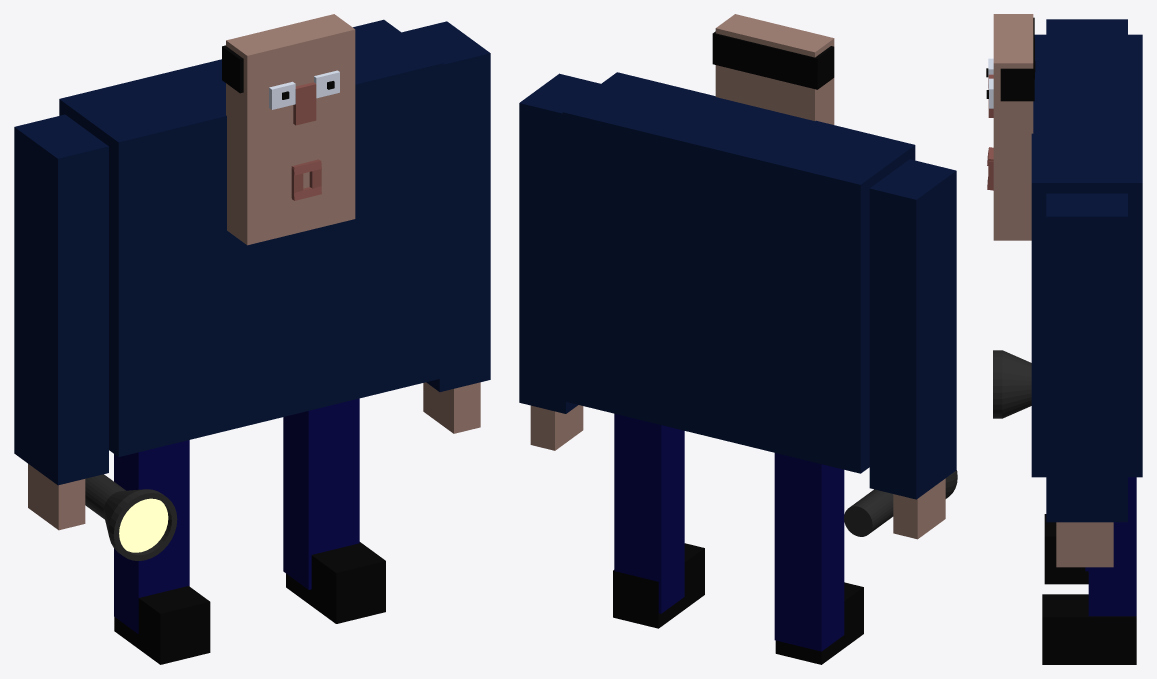
File: Man.glb
The picture shows the model from 3 angles, left to right: view 1: azimuth 30°, elevation 25°; view 2: azimuth 150°, elevation 25°; view 3: azimuth 270°, elevation 25°; orthographic projection. The views are drawn at different scales.
Visible parts, largest first — view 1: Cube, Cube.002, Cube.001, Cube.003, Cube.004, Cube.005, Cube.010, Cylinder, Cube.011, Cube.008, Cube.009, Cube.012 (+1 smaller); view 2: Cube, Cube.002, Cube.003, Cube.005, Cube.004, Cube.001, Cube.020, Cube.010, Cube.008, Cube.011, Cylinder, Cube.009; view 3: Cube.003, Cube, Cube.001, Cube.010, Cube.004, Cube.009, Cylinder, Cube.011, Cube.002, Cube.020.
Part boxes in pixels (x1=…): Cube: x1=59, y1=19, x2=443, y2=456; Cube.002: x1=14, y1=114, x2=108, y2=485; Cube.001: x1=226, y1=14, x2=355, y2=245; Cube.003: x1=402, y1=21, x2=490, y2=391; Cube.004: x1=283, y1=398, x2=359, y2=589; Cube.005: x1=114, y1=440, x2=189, y2=633; Cube.010: x1=286, y1=542, x2=385, y2=623; Cylinder: x1=85, y1=474, x2=177, y2=560; Cube.011: x1=114, y1=586, x2=210, y2=664; Cube.008: x1=28, y1=464, x2=85, y2=530; Cube.009: x1=423, y1=382, x2=480, y2=433; Cube.012: x1=293, y1=82, x2=316, y2=125; Cube: x1=562, y1=72, x2=915, y2=473; Cube.002: x1=869, y1=159, x2=956, y2=499; Cube.003: x1=519, y1=73, x2=600, y2=413; Cube.005: x1=774, y1=453, x2=844, y2=651; Cube.004: x1=614, y1=413, x2=684, y2=613; Cube.001: x1=715, y1=14, x2=834, y2=124; Cube.020: x1=712, y1=31, x2=834, y2=89; Cube.010: x1=613, y1=543, x2=704, y2=628; Cube.008: x1=893, y1=478, x2=945, y2=539; Cube.011: x1=775, y1=582, x2=863, y2=664; Cylinder: x1=844, y1=470, x2=957, y2=536; Cube.009: x1=530, y1=405, x2=583, y2=450; Cube.003: x1=1046, y1=193, x2=1127, y2=522; Cube: x1=1031, y1=34, x2=1142, y2=477; Cube.001: x1=993, y1=14, x2=1033, y2=240; Cube.010: x1=1042, y1=594, x2=1136, y2=664; Cube.004: x1=1088, y1=477, x2=1136, y2=616; Cube.009: x1=1056, y1=522, x2=1113, y2=567; Cylinder: x1=993, y1=350, x2=1031, y2=418; Cube.011: x1=1044, y1=514, x2=1088, y2=584; Cube.002: x1=1046, y1=19, x2=1127, y2=34; Cube.020: x1=1000, y1=17, x2=1035, y2=101.
Bounding box in the file's own units: 2.1 × 2.85 × 0.7037.
